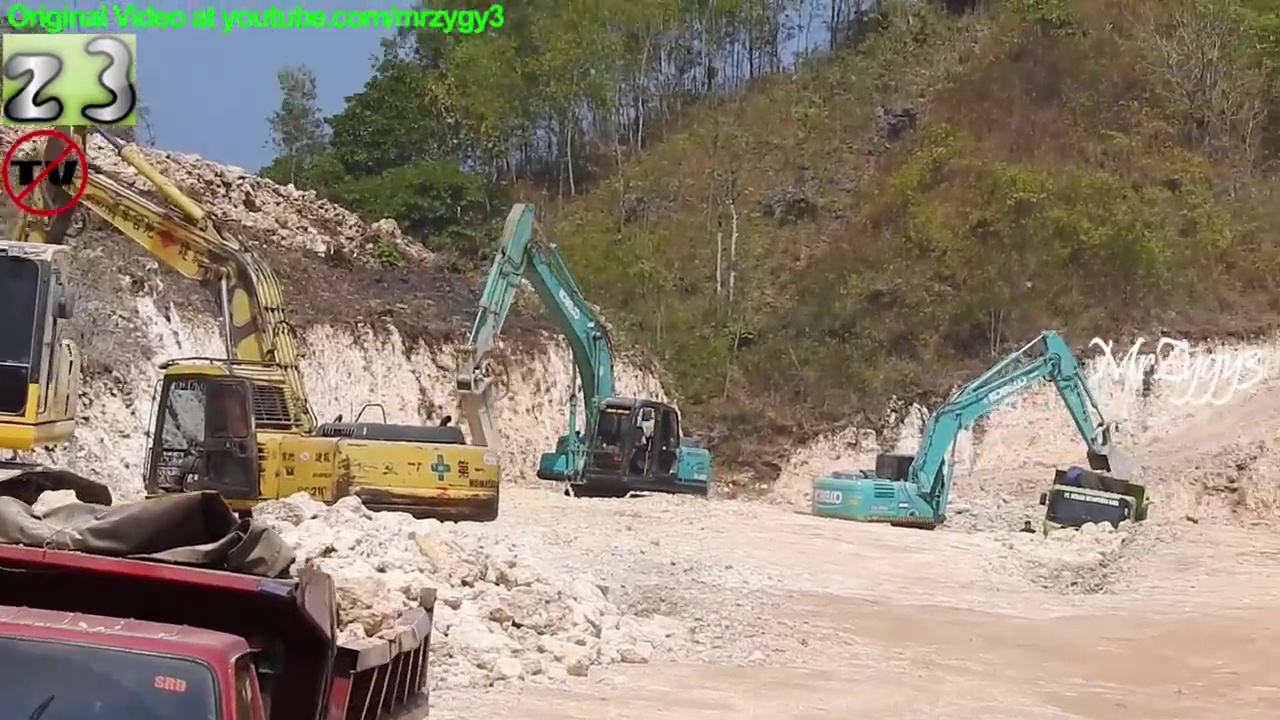excavator: (1, 81, 506, 561), (447, 195, 719, 533), (806, 324, 1133, 562), (1, 234, 120, 545)
truck: (1, 531, 440, 720), (1037, 462, 1154, 576)
